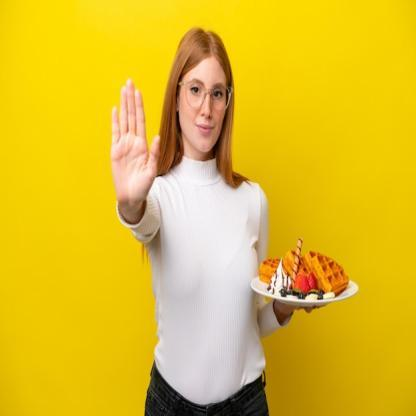stop: (110, 74, 162, 208)
